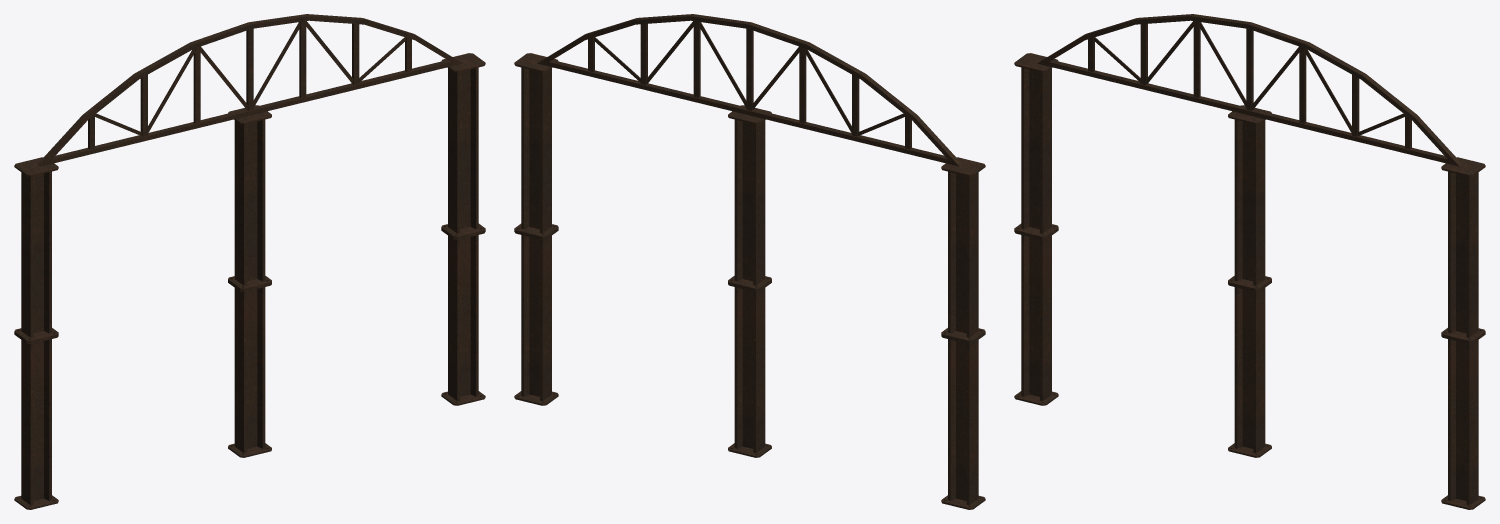
The model's file is warehouse_hl_1_frame_piece.glb.
3 renders of one model, left to right at view 1: azimuth 30°, elevation 25°; view 2: azimuth 150°, elevation 25°; view 3: azimuth 330°, elevation 25°, orthographic.
Visible parts, largest first — view 1: warehouse_hl_1_frame_piece; view 2: warehouse_hl_1_frame_piece; view 3: warehouse_hl_1_frame_piece.
Boxes of the visible parts, x1,y1,x2,y2 form: warehouse_hl_1_frame_piece: [14, 14, 485, 509]; warehouse_hl_1_frame_piece: [514, 14, 985, 509]; warehouse_hl_1_frame_piece: [1014, 14, 1485, 509].
Bounding box in the file's own units: 8.6 × 7.62 × 0.5.
1 material, 1 textured.
